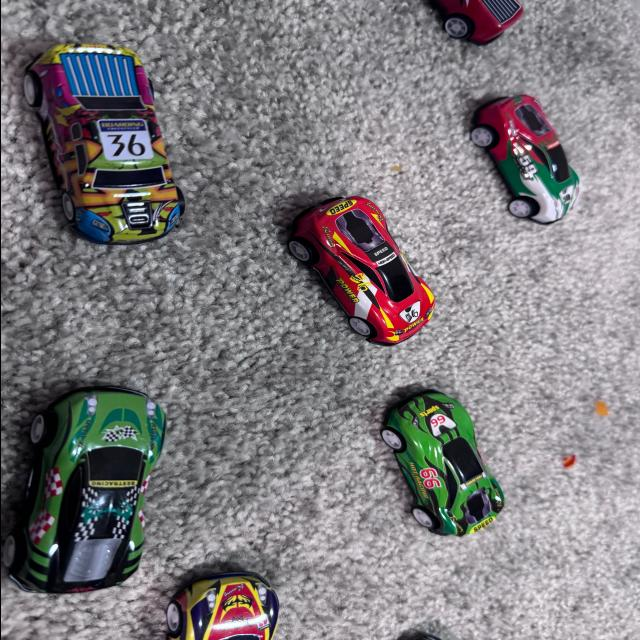car: (12, 1, 194, 284), (1, 371, 190, 615), (364, 372, 554, 538), (286, 180, 463, 352), (453, 74, 608, 258), (150, 519, 272, 640), (346, 0, 536, 61)
